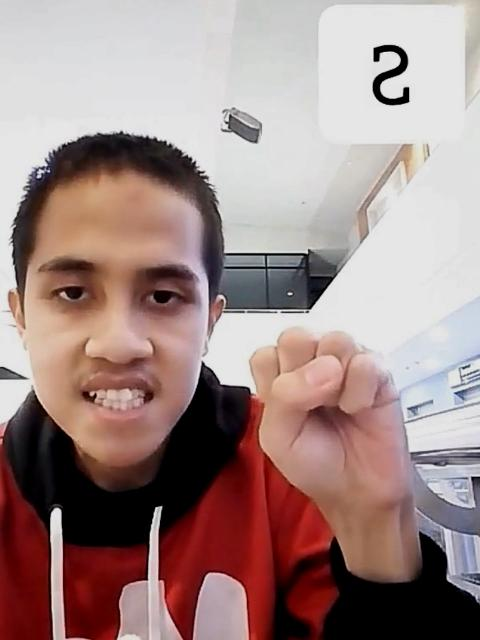S: (244, 320, 418, 506)
